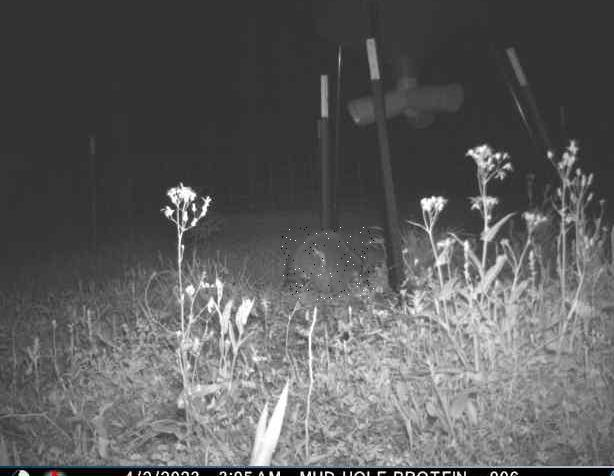Raccoon: (281, 227, 374, 300)
